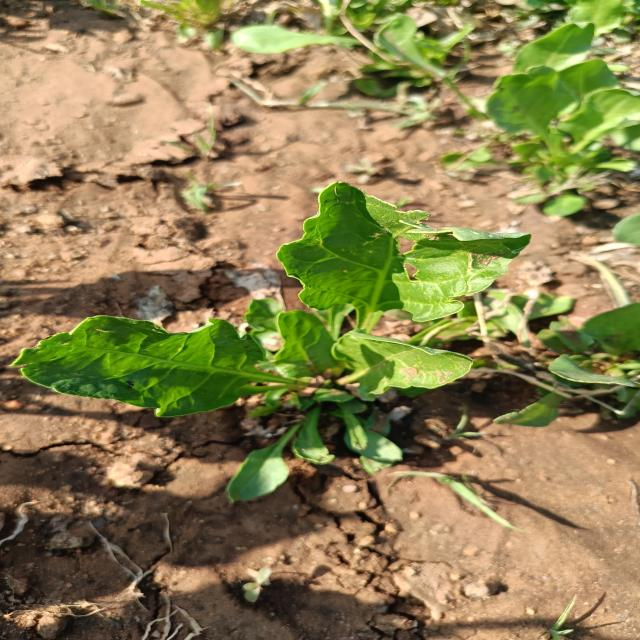leaves: (10, 304, 360, 421), (275, 180, 426, 357), (394, 209, 542, 329), (323, 319, 491, 413), (232, 306, 389, 393), (220, 415, 346, 508), (329, 416, 409, 477), (285, 426, 350, 479)
